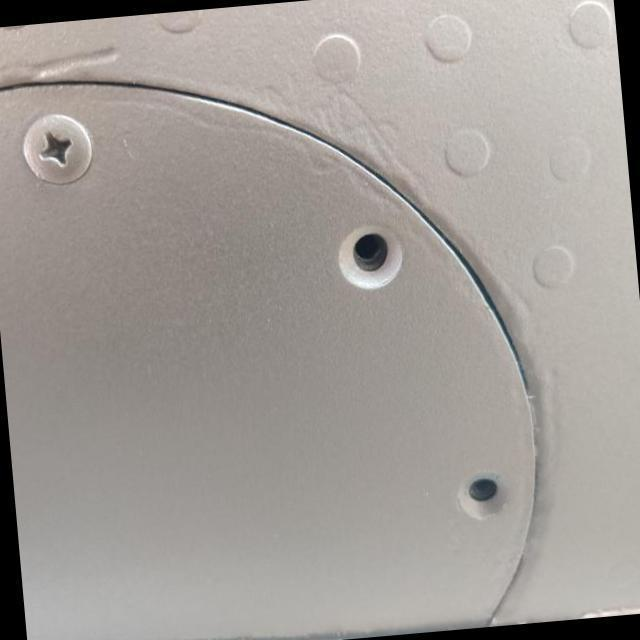Fastener Damage: (276, 161, 462, 346), (407, 416, 552, 560)
